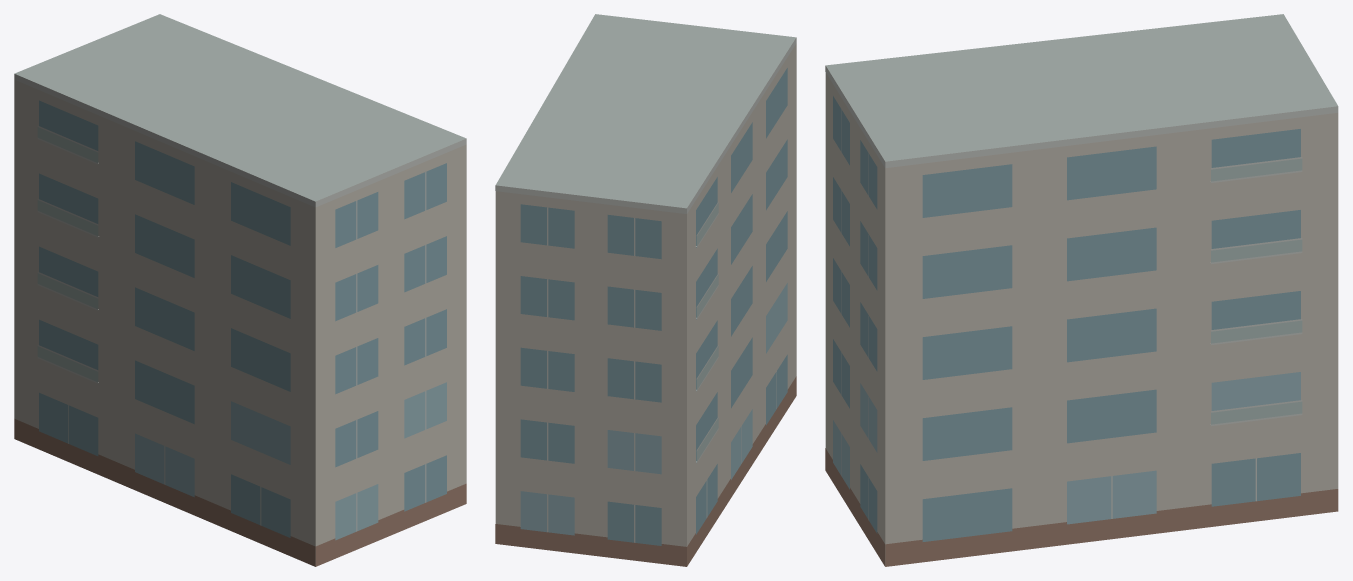
File: survey-upis-32836721.glb
3 renders of one model, left to right at view 1: azimuth 30°, elevation 25°; view 2: azimuth 150°, elevation 25°; view 3: azimuth 270°, elevation 25°, orthographic. The views are drawn at different scales.
Visible parts, largest first — view 1: survey-upis-32836721.tmp; view 2: survey-upis-32836721.tmp; view 3: survey-upis-32836721.tmp.
Boxes of the visible parts, x1,y1,x2,y2 form: survey-upis-32836721.tmp: (14,14,466,566); survey-upis-32836721.tmp: (495,14,796,566); survey-upis-32836721.tmp: (825,14,1338,566).
Size of the model in its own units: 11.89 by 15.2 by 17.45.
